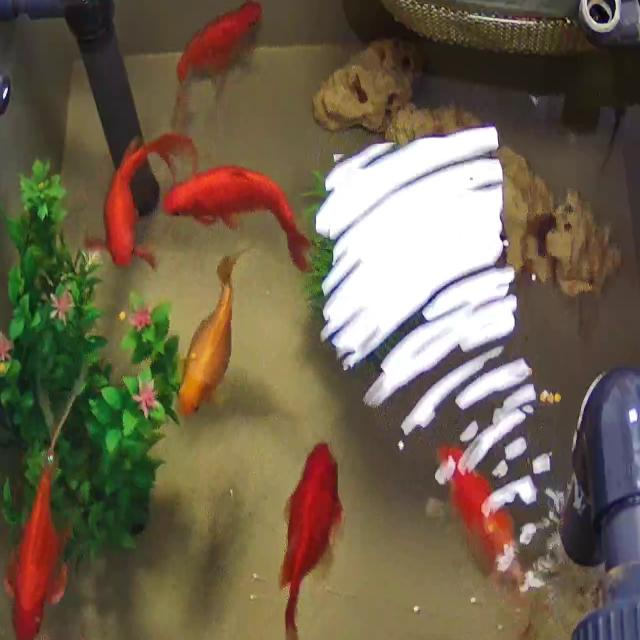fish: (267, 438, 344, 640), (160, 163, 312, 264), (97, 129, 199, 268), (177, 248, 250, 428), (169, 0, 262, 134), (5, 456, 72, 640), (438, 447, 518, 593)
